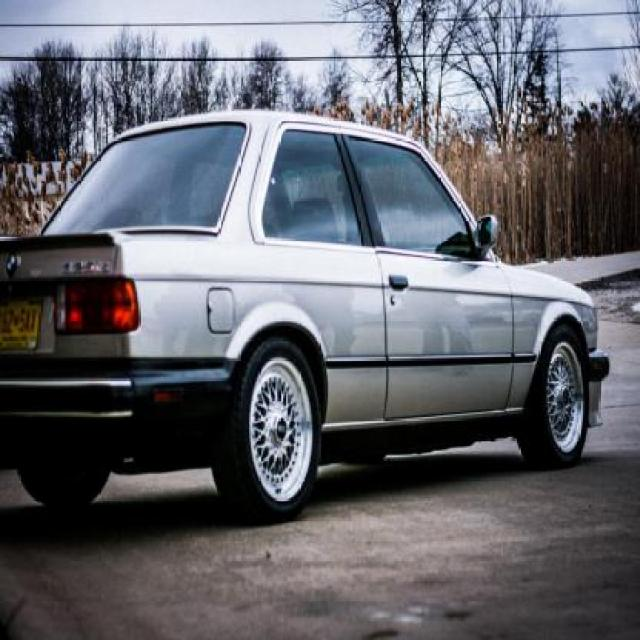License-Plates: (0, 297, 43, 351)
